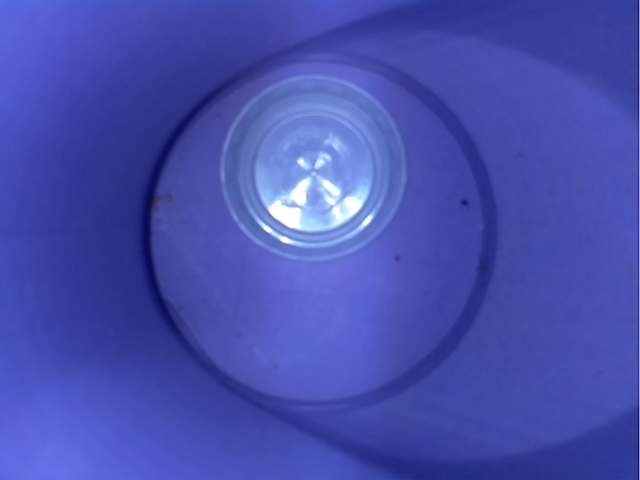bouchon: (198, 70, 414, 267)
